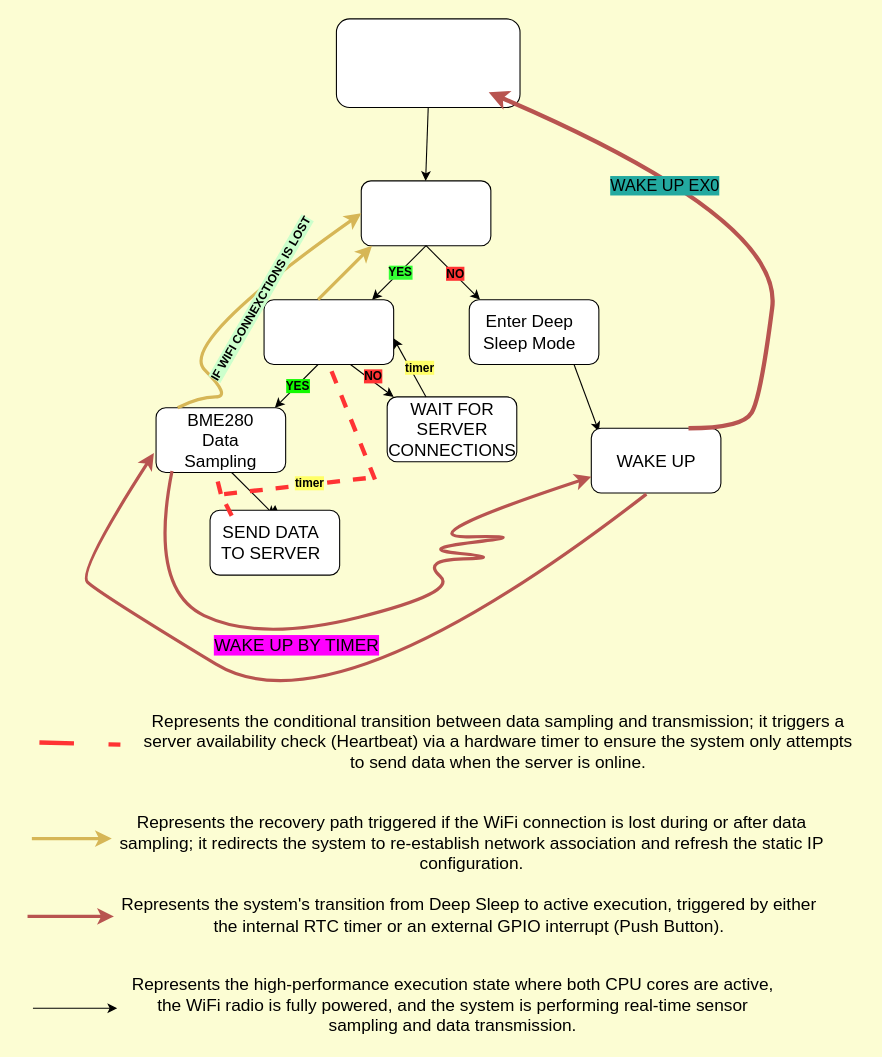
Image size: 882x1057. Some labels were removed from this diagram. Each missing label, with the centre of its shape:
HTTP Heartbeat Check (Server Online?): [328,331]
System Boot & Wakeup Cause Check: [427,62]
WiFi Association & Static IP Config: [425,213]
